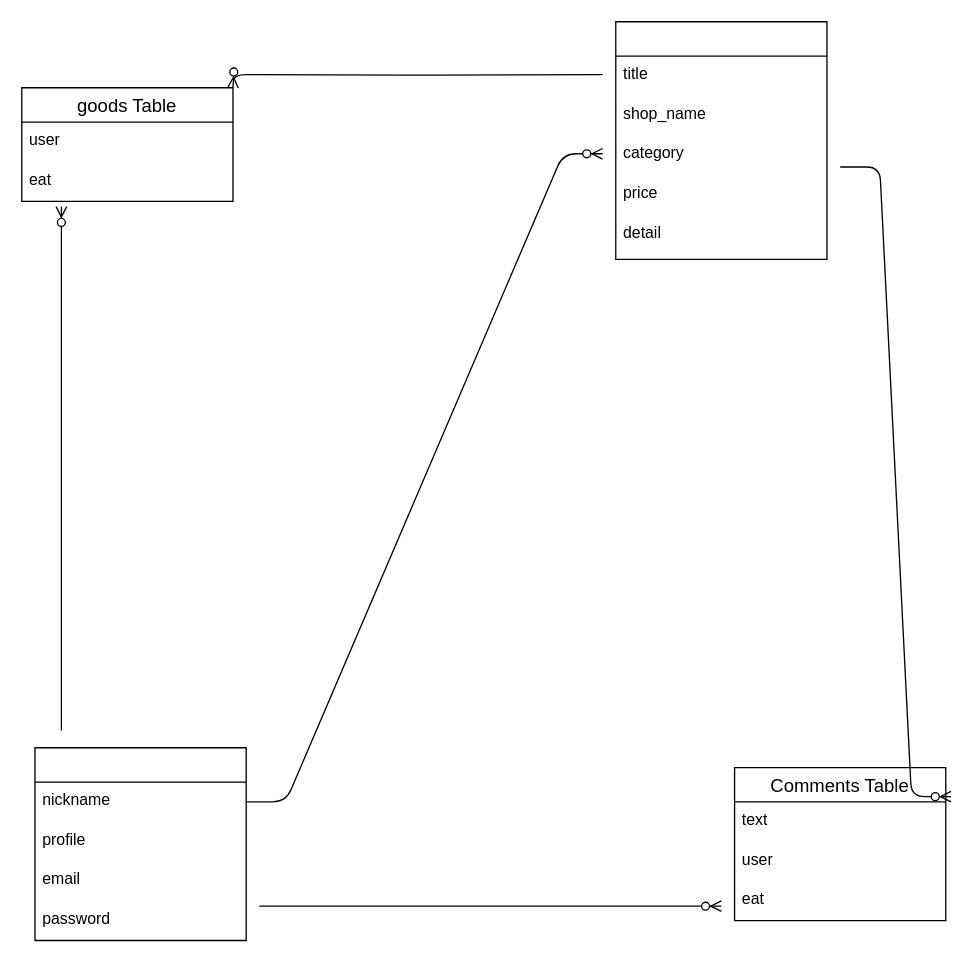
This 973x962 diagram has some shape labels left out. The shapes that lost their labels are listed below. From the top down, each one's box as (x1, y1, x2, y2) in pixels, then its label:
(614, 20, 827, 259): Eats Table
(34, 746, 246, 940): Users Table
